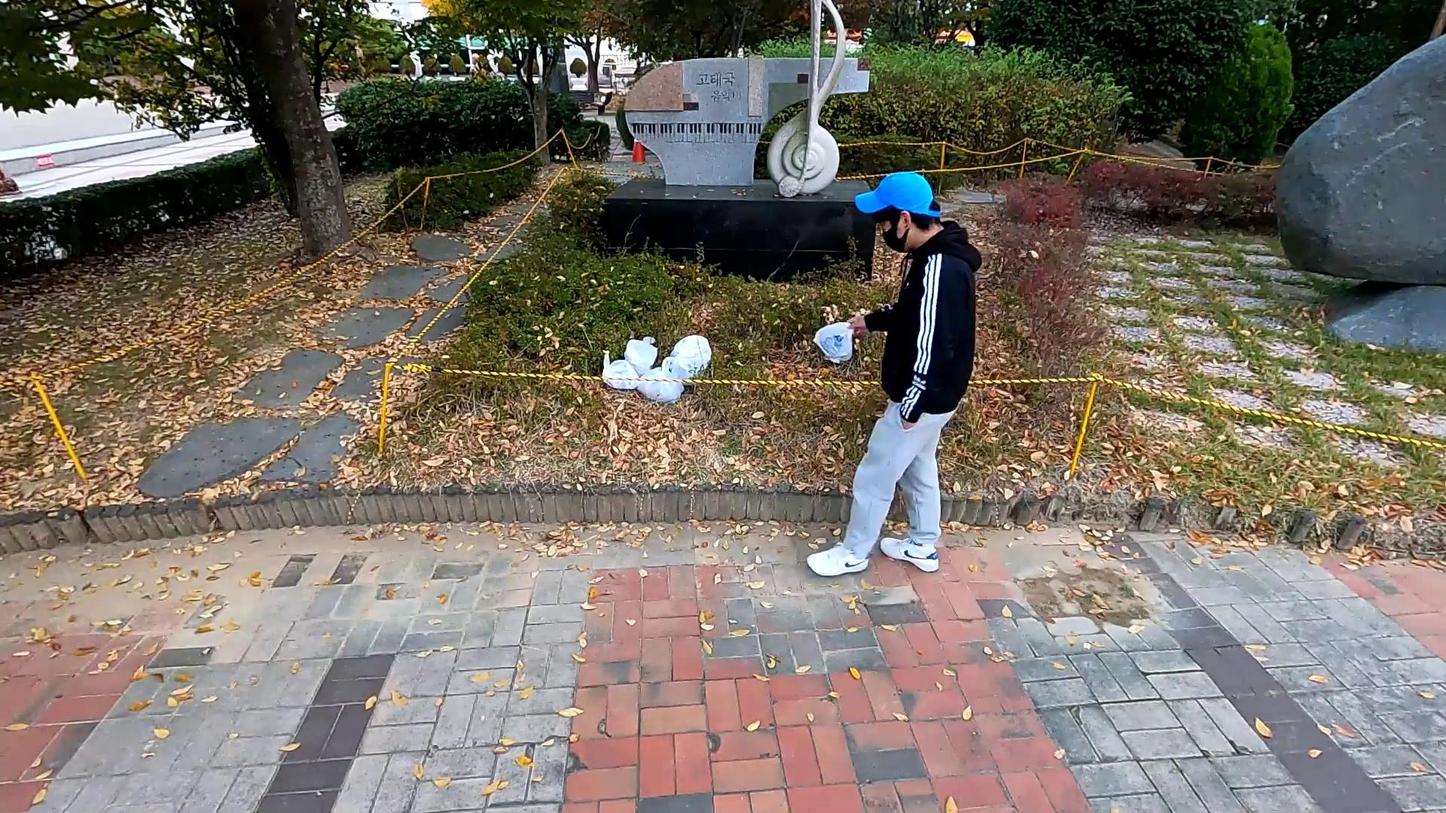person: (800, 166, 980, 579)
trash: (640, 358, 694, 407), (595, 348, 645, 400), (811, 318, 860, 368), (618, 324, 660, 377), (672, 337, 716, 377)
